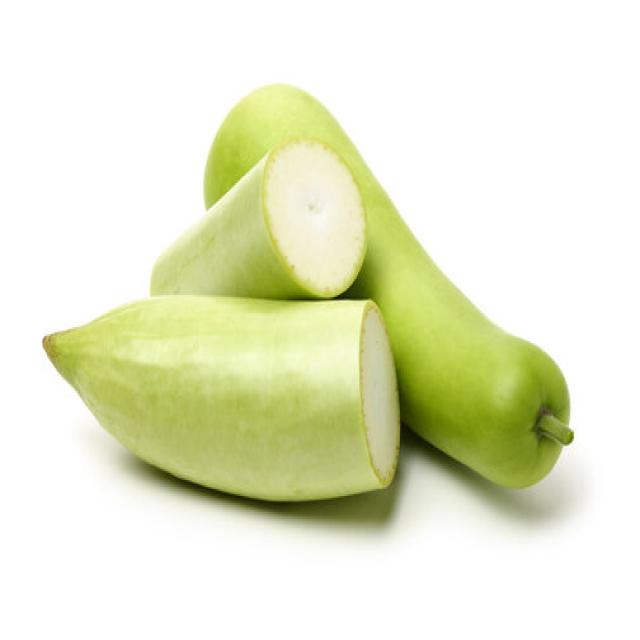Bottle Gourd: (202, 80, 574, 489), (41, 292, 401, 503), (149, 133, 368, 299)
